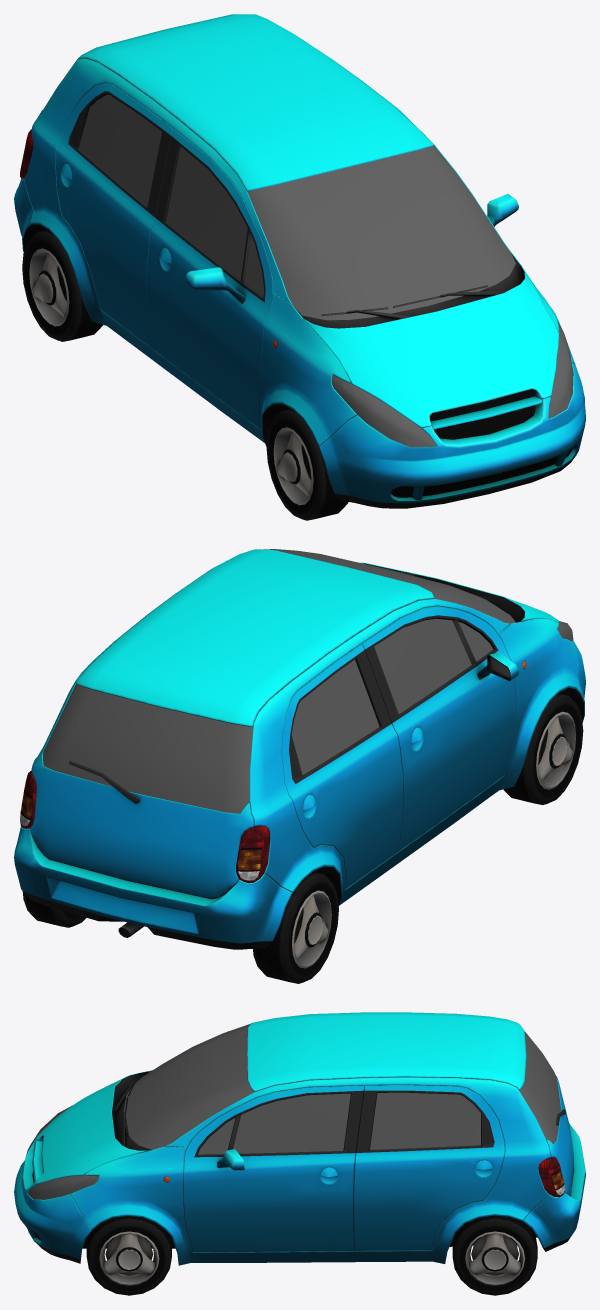
The model's file is compact.glb.
3 views of the same model, one above another, from view 1: azimuth 30°, elevation 25°; view 2: azimuth 150°, elevation 25°; view 3: azimuth 270°, elevation 25° (orthographic). The views are drawn at different scales.
Parts seen in each view (by area): view 1: Compact Body, Wheel_C003, Wheel_C002; view 2: Compact Body, Wheel_C002, Wheel_C003, Wheel_C001; view 3: Compact Body, Wheel_C001, Wheel_C.
Part boxes in pixels (<box>): Compact Body: <box>14,14,585,508</box>; Wheel_C003: <box>266,409,348,520</box>; Wheel_C002: <box>22,229,102,341</box>; Compact Body: <box>14,549,585,949</box>; Wheel_C002: <box>253,872,338,983</box>; Wheel_C003: <box>503,693,583,804</box>; Wheel_C001: <box>22,891,86,927</box>; Compact Body: <box>14,1012,585,1265</box>; Wheel_C001: <box>452,1215,537,1295</box>; Wheel_C: <box>86,1216,171,1295</box>.
Bounding box in the file's own units: 1.81 × 1.48 × 3.66.
4 materials, 3 textured.
